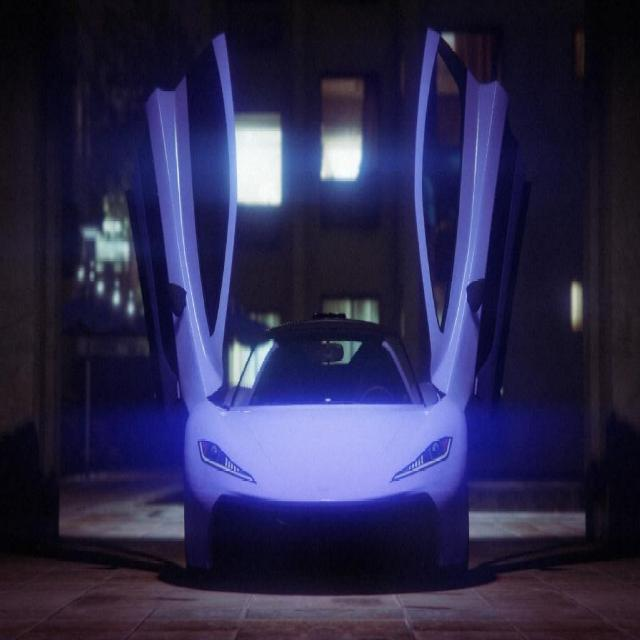car: (126, 31, 533, 578)
